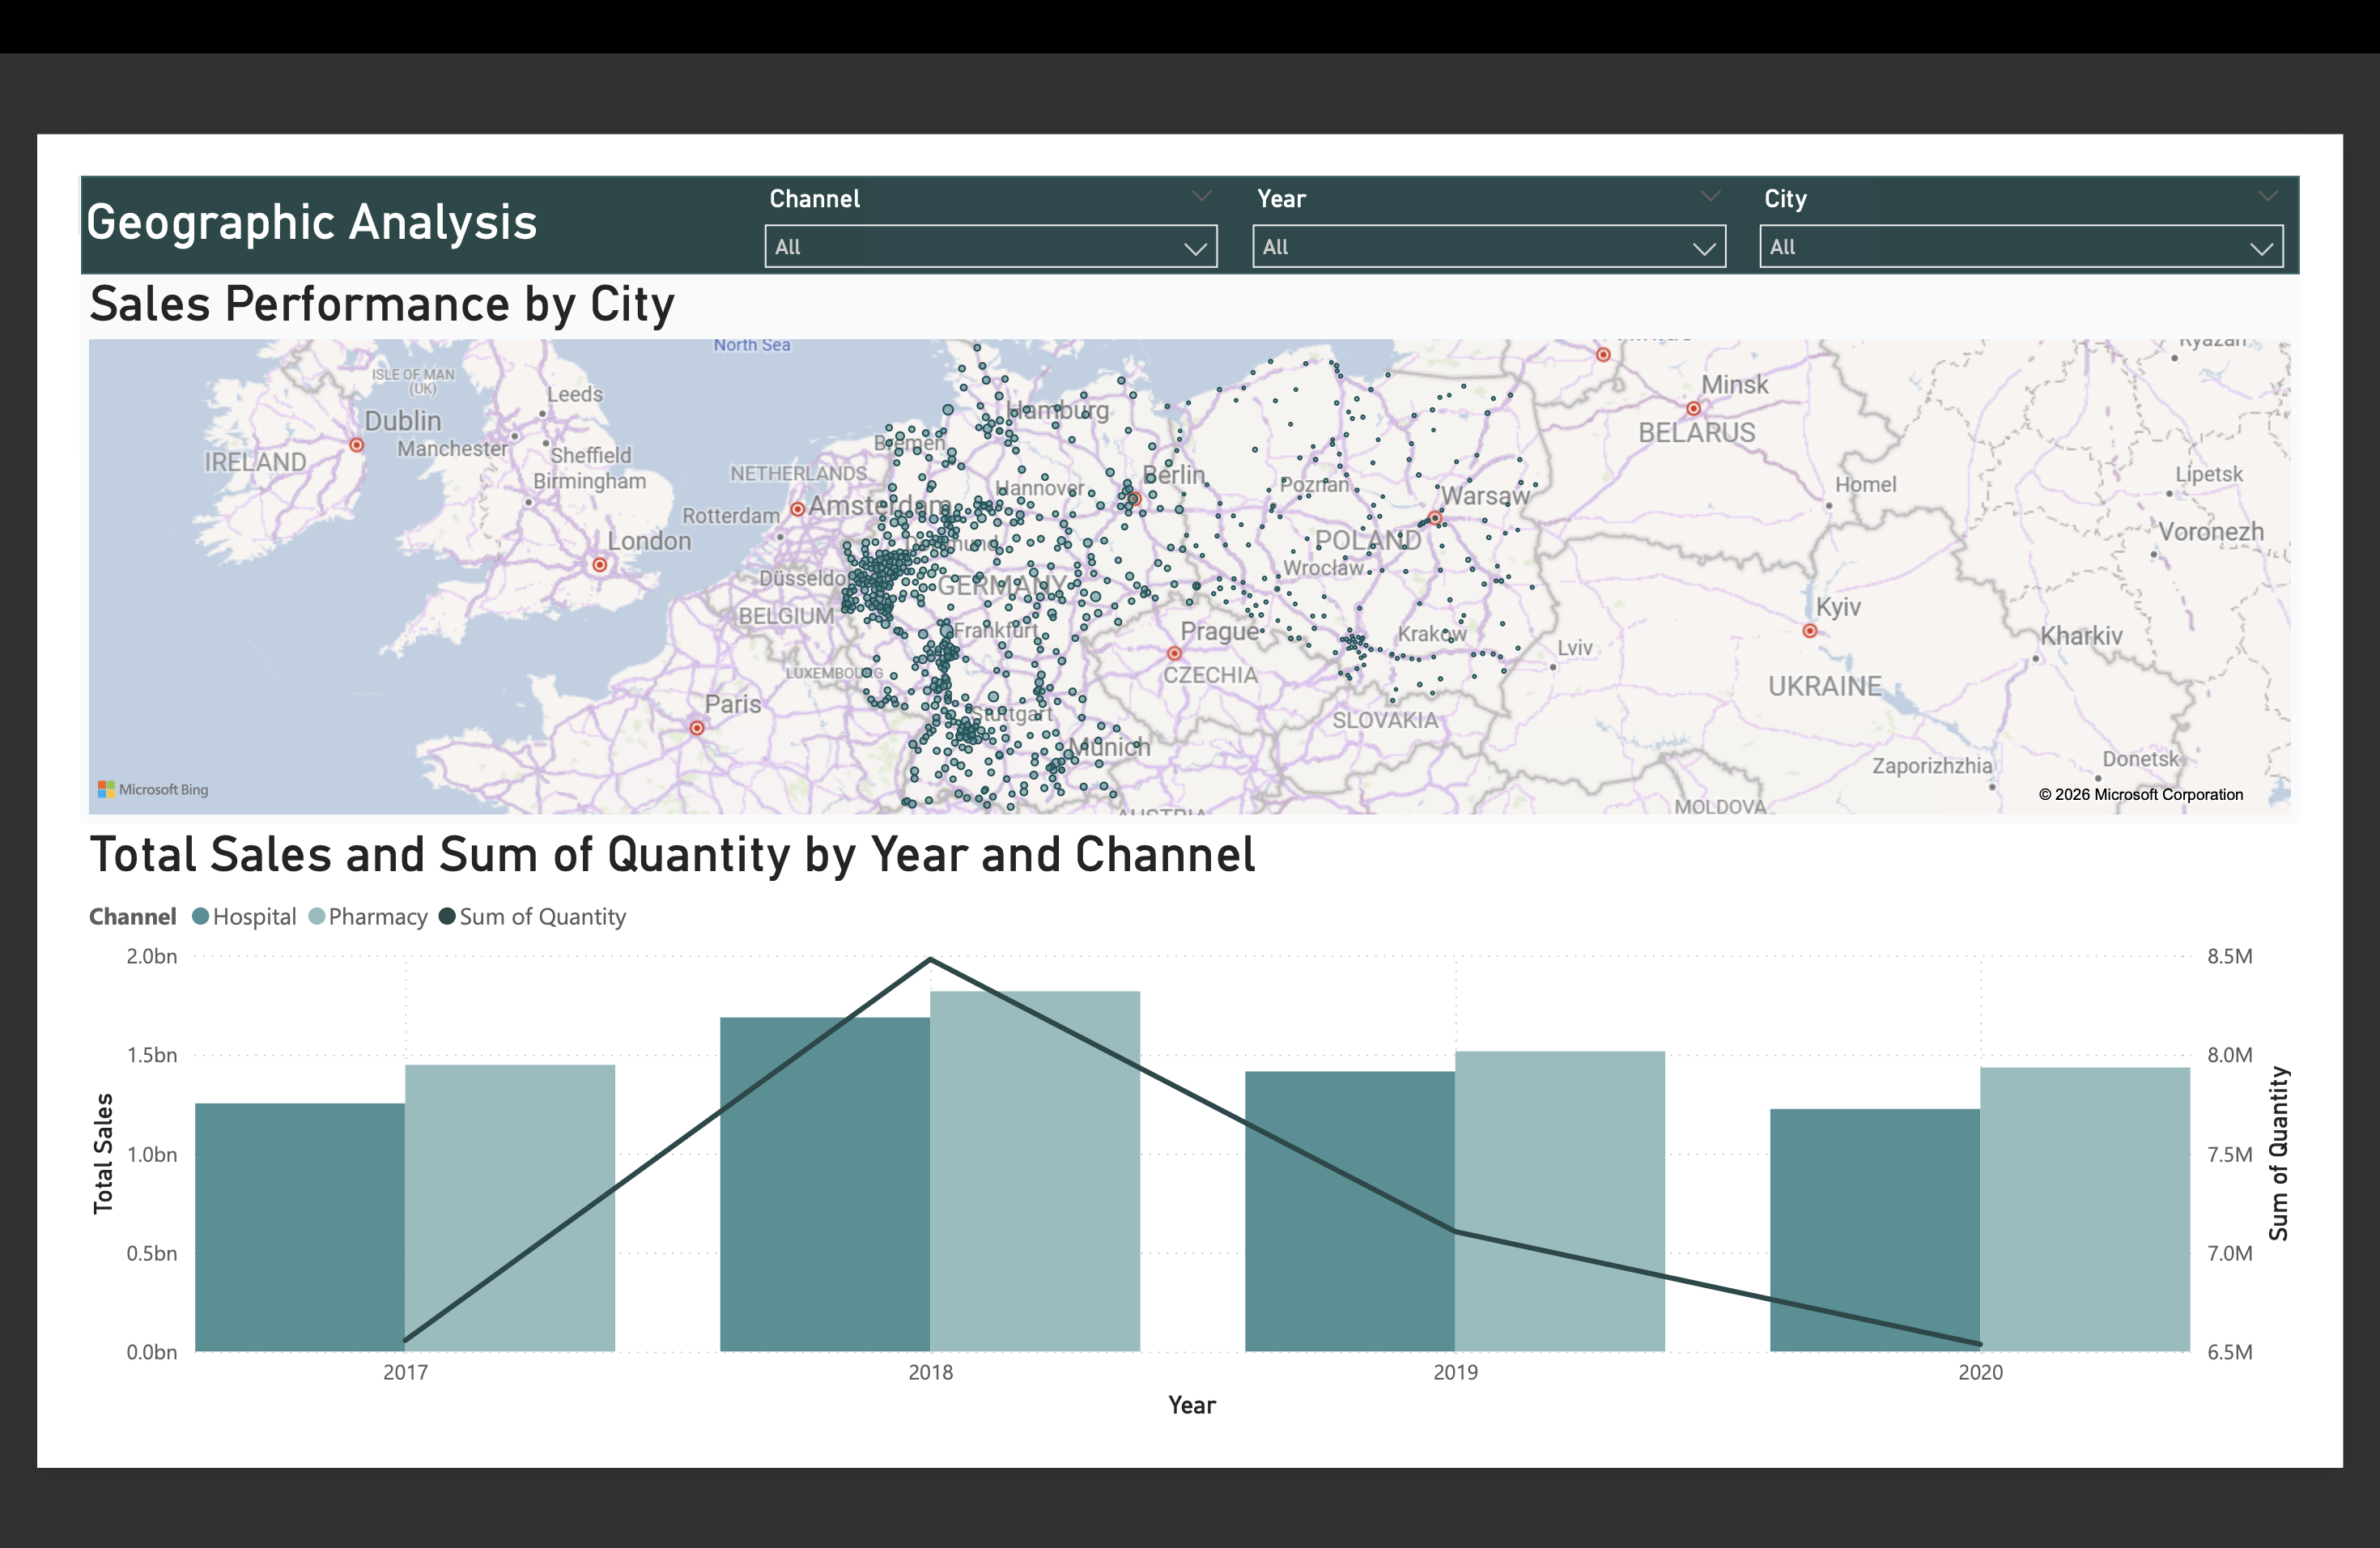

Layout of this report page (visuals, bound fields, positions):
{"tool":"powerbi","page":{"name":"Geographic Analysis","canvas":[1280,720],"ordinal":2},"visuals":[{"type":"group","id":"g1","title":"Group 1","box":[-0.5,0,1281.4,56.5],"z":0},{"type":"shape","box":[1.4,0.5,1278,56],"z":0,"group":"g1"},{"type":"slicer","fields":{"Values":["pharma-data-cdip-final-project - pharma-data-cdip-final-project.City"]},"box":[958.4,0.4,322.5,54.5],"z":1000,"group":"g1"},{"type":"map","title":"Sales Performance by City","fields":{"Size":["pharma-data-cdip-final-project - pharma-data-cdip-final-project.Total Sales"],"Category":["pharma-data-cdip-final-project - pharma-data-cdip-final-project.City"],"Y":["Avg(pharma-data-cdip-final-project - pharma-data-cdip-final-project.Latitude)"],"X":["Avg(pharma-data-cdip-final-project - pharma-data-cdip-final-project.Longitude)"]},"box":[1.4,56.3,1277.6,317],"z":1000},{"type":"slicer","fields":{"Values":["pharma-data-cdip-final-project - pharma-data-cdip-final-project.Channel"]},"box":[386,0,280.1,54.5],"z":2000,"group":"g1"},{"type":"lineClusteredColumnComboChart","fields":{"Category":["pharma-data-cdip-final-project - pharma-data-cdip-final-project.Date.Variation.Date Hierarchy.Year","pharma-data-cdip-final-project - pharma-data-cdip-final-project.Date.Variation.Date Hierarchy.Quarter","pharma-data-cdip-final-project - pharma-data-cdip-final-project.Date.Variation.Date Hierarchy.Month","pharma-data-cdip-final-project - pharma-data-cdip-final-project.Date.Variation.Date Hierarchy.Day"],"Y":["pharma-data-cdip-final-project - pharma-data-cdip-final-project.Total Sales"],"Y2":["Sum(pharma-data-cdip-final-project - pharma-data-cdip-final-project.Quantity)"],"Series":["pharma-data-cdip-final-project - pharma-data-cdip-final-project.Channel"]},"box":[1.4,373.3,1277.6,347.2],"z":2000},{"type":"slicer","fields":{"Values":["pharma-data-cdip-final-project - pharma-data-cdip-final-project.Date.Variation.Date Hierarchy.Year"]},"box":[666.1,0.1,293.8,54.5],"z":3000,"group":"g1"},{"type":"textbox","box":[-0.5,4.1,384.3,48],"z":4000,"group":"g1"}]}

Visuals, with their boxes on the page's 1280x720 design canvas (x1, y1, x2, y2). These are canvas units, not pixel positions in the 2380x1548 screenshot, which may show the page scaled, cropped or inside an application window:
"Group 1" group: <region>0, 0, 1281, 56</region>
shape: <region>1, 0, 1279, 56</region>
slicer - pharma-data-cdip-final-project - pharma-data-cdip-final-project.City: <region>958, 0, 1281, 55</region>
"Sales Performance by City" map: <region>1, 56, 1279, 373</region>
slicer - pharma-data-cdip-final-project - pharma-data-cdip-final-project.Channel: <region>386, 0, 666, 54</region>
lineClusteredColumnComboChart - pharma-data-cdip-final-project - pharma-data-cdip-final-project.Date.Variation.Date Hierarchy.Year x pharma-data-cdip-final-project - pharma-data-cdip-final-project.Date.Variation.Date Hierarchy.Quarter: <region>1, 373, 1279, 720</region>
slicer - pharma-data-cdip-final-project - pharma-data-cdip-final-project.Date.Variation.Date Hierarchy.Year: <region>666, 0, 960, 55</region>
textbox: <region>0, 4, 384, 52</region>
